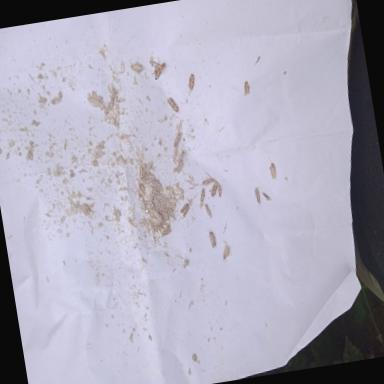pbw: (197, 170, 214, 186), (184, 73, 196, 95), (267, 153, 277, 179), (88, 94, 104, 110), (166, 96, 180, 114), (252, 186, 264, 206), (220, 244, 232, 263), (150, 206, 162, 224), (207, 228, 217, 248), (102, 100, 115, 115), (178, 202, 190, 218), (129, 60, 143, 72), (148, 58, 162, 70), (174, 150, 186, 162), (209, 182, 219, 196), (172, 132, 182, 146), (154, 196, 162, 213), (138, 162, 146, 179), (242, 80, 250, 96), (204, 202, 212, 218), (136, 182, 144, 198), (175, 158, 184, 172), (108, 86, 116, 101), (198, 188, 206, 202), (160, 227, 172, 235), (168, 207, 175, 220), (211, 176, 220, 186), (262, 190, 270, 201), (217, 184, 222, 197)
